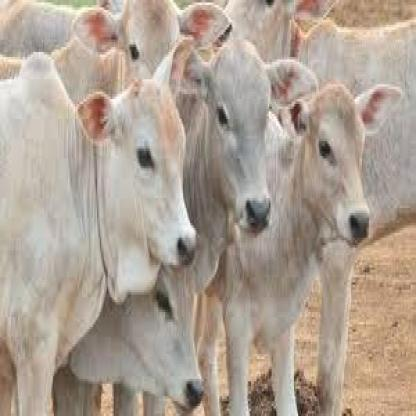cow: (0, 38, 204, 415), (202, 86, 406, 416), (173, 38, 316, 239), (112, 267, 204, 416)
